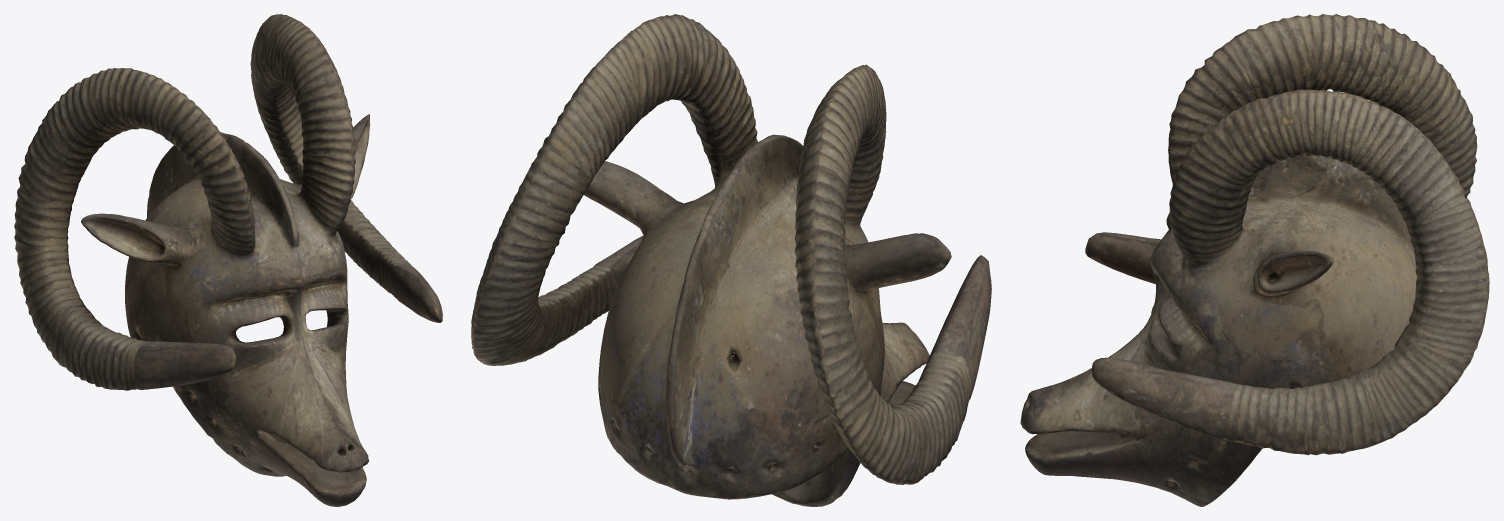
File: ram_mask_bolo.glb
3 renders of one model, left to right at view 1: azimuth 30°, elevation 25°; view 2: azimuth 150°, elevation 25°; view 3: azimuth 270°, elevation 25°, orthographic. The views are drawn at different scales.
Visible parts, largest first — view 1: 04_2016.56_ram_mask_bolo; view 2: 04_2016.56_ram_mask_bolo; view 3: 04_2016.56_ram_mask_bolo.
Boxes of the visible parts, box(x1,y1,x2,y2) form: 04_2016.56_ram_mask_bolo: box(14, 14, 442, 506); 04_2016.56_ram_mask_bolo: box(471, 14, 991, 506); 04_2016.56_ram_mask_bolo: box(1020, 14, 1489, 506).
Bounding box in the file's own units: 0.3729 × 0.4282 × 0.403.
Materials: 1 (1 with a texture image).
